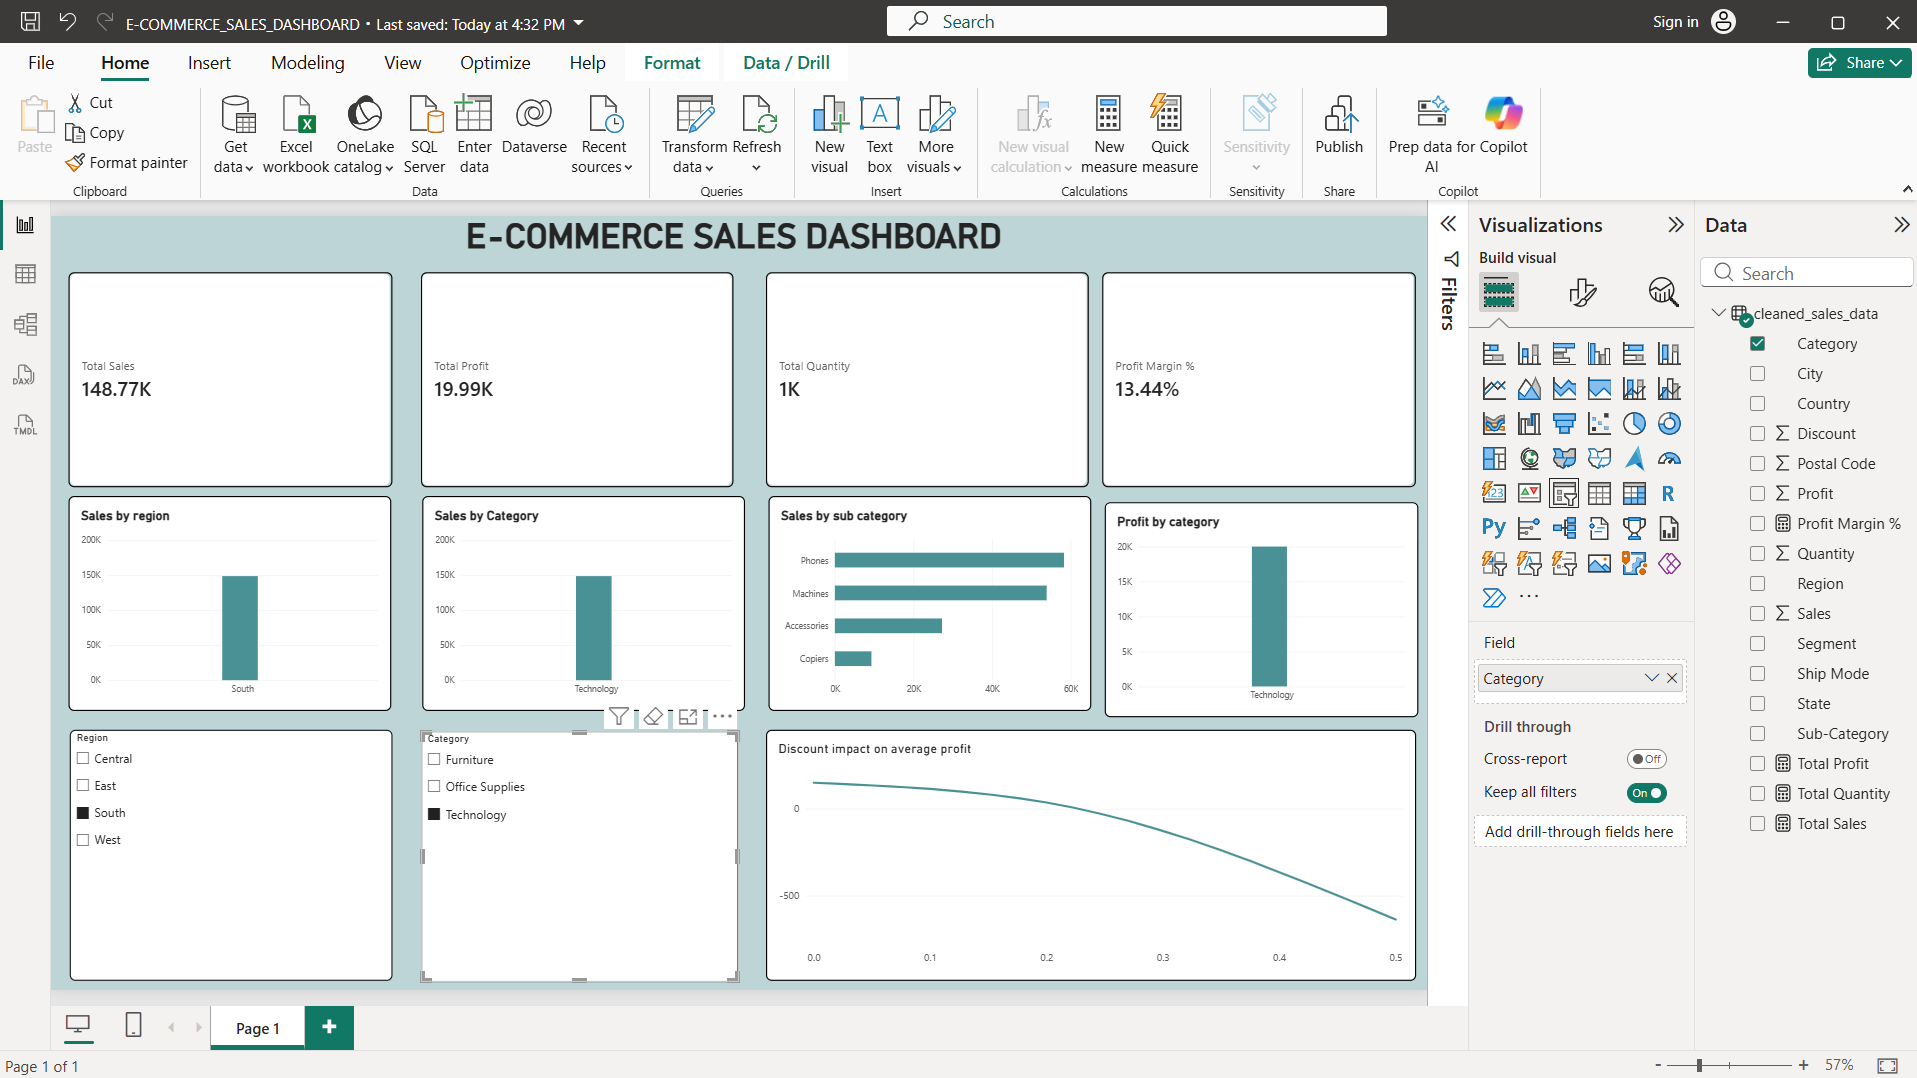

The page's visual inventory and layout, read from the dashboard file:
{"tool":"powerbi","page":{"name":"Page 1","canvas":[1920,1080],"ordinal":0},"visuals":[{"type":"cardVisual","fields":{"Data":["cleaned_sales_data.Total Sales","cleaned_sales_data.Total Sales"]},"box":[24.4,78.5,451.7,300],"z":0},{"type":"cardVisual","fields":{"Data":["cleaned_sales_data.Total Profit"]},"box":[516.3,78.5,436,300],"z":1000},{"type":"cardVisual","fields":{"Data":["cleaned_sales_data.Total Quantity"]},"box":[997.7,78.5,450,300],"z":2000},{"type":"clusteredColumnChart","title":"Sales by Category","fields":{"Category":["cleaned_sales_data.Category"],"Y":["Sum(cleaned_sales_data.Sales)"]},"box":[518,390.7,450,300],"z":3000},{"type":"clusteredColumnChart","title":"Sales by region","fields":{"Category":["cleaned_sales_data.Region"],"Y":["Sum(cleaned_sales_data.Sales)"]},"box":[24.4,390.7,450,300],"z":4000},{"type":"clusteredColumnChart","title":"Profit by category","fields":{"Category":["cleaned_sales_data.Category"],"Y":["Sum(cleaned_sales_data.Profit)"]},"box":[1470.4,399.4,437.8,300],"z":5000},{"type":"clusteredBarChart","title":"Sales by sub category","fields":{"Category":["cleaned_sales_data.Sub-Category"],"Y":["Sum(cleaned_sales_data.Sales)"]},"box":[1001.2,390.7,450,300],"z":6000},{"type":"slicer","fields":{"Values":["cleaned_sales_data.Region"]},"box":[26.2,716.9,450,350.6],"z":7000},{"type":"slicer","fields":{"Values":["cleaned_sales_data.Category"]},"box":[516.3,718.6,443,350.6],"z":8000},{"type":"cardVisual","fields":{"Data":["cleaned_sales_data.Profit Margin %"]},"box":[1466.9,78.5,437.8,300],"z":9000},{"type":"lineChart","title":"Discount impact on average profit","fields":{"Category":["cleaned_sales_data.Discount"],"Y":["Avg(cleaned_sales_data.Profit)"]},"box":[997.7,716.9,907,350.6],"z":10000},{"type":"textbox","title":"E-COMMERCE SALES DASHBOARD","box":[579.8,0,760.5,61],"z":12000}]}

Visuals, with their boxes on the page's 1920x1080 design canvas (x1, y1, x2, y2). These are canvas units, not pixel positions in the 1917x1078 screenshot, which may show the page scaled, cropped or inside an application window:
cardVisual - cleaned_sales_data.Total Sales x cleaned_sales_data.Total Sales: box=[24, 78, 476, 378]
cardVisual - cleaned_sales_data.Total Profit: box=[516, 78, 952, 378]
cardVisual - cleaned_sales_data.Total Quantity: box=[998, 78, 1448, 378]
"Sales by Category" clusteredColumnChart: box=[518, 391, 968, 691]
"Sales by region" clusteredColumnChart: box=[24, 391, 474, 691]
"Profit by category" clusteredColumnChart: box=[1470, 399, 1908, 699]
"Sales by sub category" clusteredBarChart: box=[1001, 391, 1451, 691]
slicer - cleaned_sales_data.Region: box=[26, 717, 476, 1068]
slicer - cleaned_sales_data.Category: box=[516, 719, 959, 1069]
cardVisual - cleaned_sales_data.Profit Margin %: box=[1467, 78, 1905, 378]
"Discount impact on average profit" lineChart: box=[998, 717, 1905, 1068]
"E-COMMERCE SALES DASHBOARD" textbox: box=[580, 0, 1340, 61]
